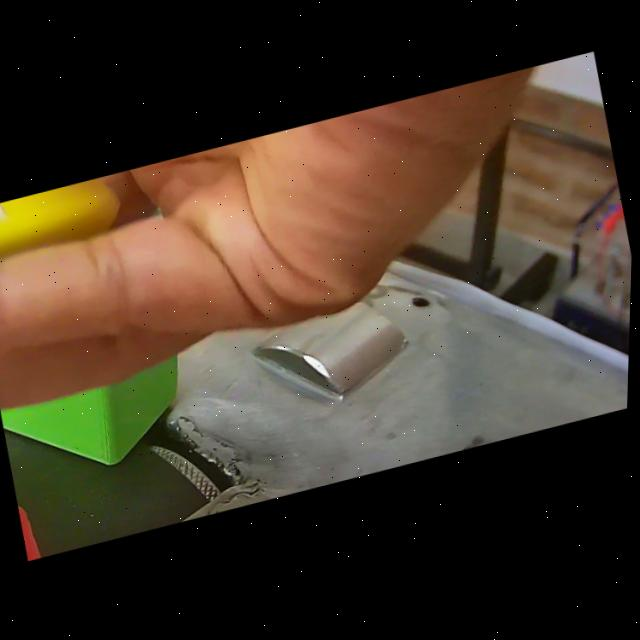greenBox: (0, 314, 210, 500)
redBox: (16, 485, 50, 561)
yellowBox: (0, 169, 177, 418)
